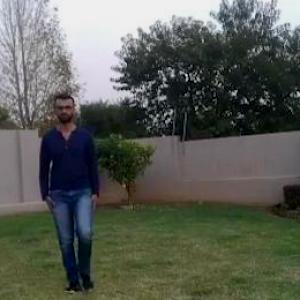follow: (44, 98, 103, 283)
